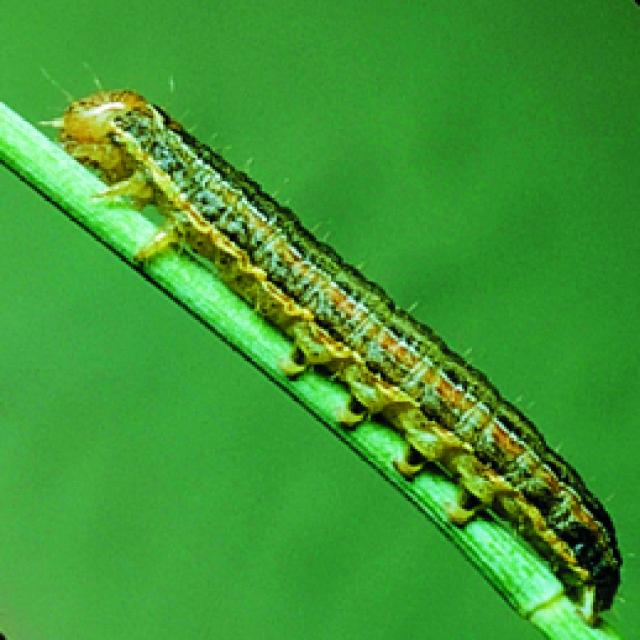pest-armyworm: (57, 77, 628, 634)
